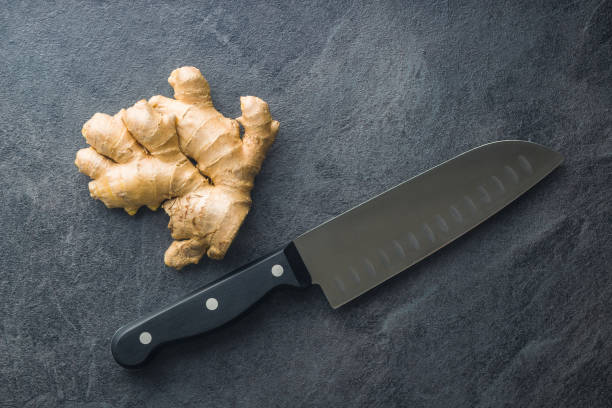knife: (104, 132, 572, 373)
